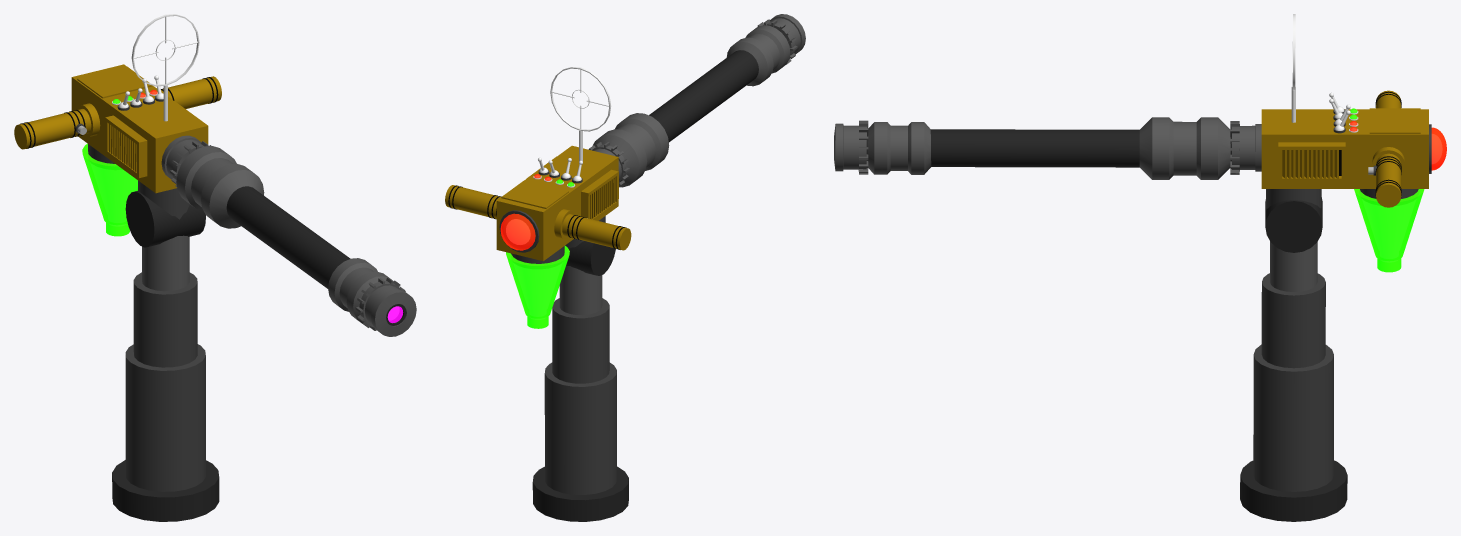
The model's file is turret.glb.
The picture shows the model from 3 angles, left to right: view 1: azimuth 30°, elevation 25°; view 2: azimuth 150°, elevation 25°; view 3: azimuth 270°, elevation 25°; orthographic projection. The views are drawn at different scales.
Visible parts, largest first — view 1: pPipe6, pCube1, pPipe5, pPipe1, pPipe20, pPipe7, pCylinder2, pCylinder4, pCylinder27, pPipe4, pPipe17, pPipe14 (+5 smaller); view 2: pPipe6, pCube1, pPipe5, pPipe1, pPipe7, pPipe20, pCylinder27, pCylinder2, pPipe14, pPipe4, polySurface54, pCylinder4 (+5 smaller); view 3: pPipe6, pPipe1, pCube1, pPipe20, pPipe5, pPipe7, pPipe14, pCylinder27, polySurface35, pCylinder4, pPipe4, pPipe17 (+4 smaller).
Boxes of the visible parts, left/top/right/bottom form: pPipe6: left=125, top=344, right=205, bottom=491; pCube1: left=71, top=64, right=207, bottom=193; pPipe5: left=133, top=272, right=197, bottom=367; pPipe1: left=226, top=186, right=406, bottom=325; pPipe20: left=176, top=146, right=264, bottom=228; pPipe7: left=112, top=460, right=219, bottom=521; pCylinder2: left=14, top=76, right=221, bottom=149; pCylinder4: left=125, top=191, right=205, bottom=247; pCylinder27: left=82, top=143, right=137, bottom=236; pPipe4: left=142, top=235, right=189, bottom=291; pPipe17: left=355, top=277, right=416, bottom=336; pPipe14: left=328, top=258, right=393, bottom=323; pPipe6: left=544, top=362, right=616, bottom=494; pCube1: left=496, top=145, right=618, bottom=261; pPipe5: left=552, top=298, right=609, bottom=383; pPipe1: left=649, top=50, right=758, bottom=142; pPipe7: left=532, top=466, right=628, bottom=521; pPipe20: left=592, top=113, right=669, bottom=187; pCylinder27: left=506, top=246, right=569, bottom=328; pCylinder2: left=445, top=185, right=631, bottom=250; pPipe14: left=726, top=25, right=790, bottom=86; pPipe4: left=559, top=266, right=602, bottom=315; polySurface54: left=581, top=169, right=618, bottom=220; pCylinder4: left=566, top=241, right=615, bottom=275; pPipe6: left=1253, top=344, right=1333, bottom=491; pPipe1: left=866, top=129, right=1231, bottom=167; pCube1: left=1261, top=109, right=1428, bottom=188; pPipe20: left=1139, top=117, right=1230, bottom=179; pPipe5: left=1261, top=273, right=1325, bottom=368; pPipe7: left=1240, top=460, right=1347, bottom=521; pPipe14: left=867, top=122, right=931, bottom=174; pCylinder27: left=1354, top=189, right=1424, bottom=272; polySurface35: left=1278, top=142, right=1345, bottom=182; pCylinder4: left=1265, top=197, right=1322, bottom=252; pPipe4: left=1270, top=241, right=1317, bottom=291; pPipe17: left=834, top=120, right=868, bottom=174.
Bounding box in the file's own units: 25.42 × 60.25 × 69.43.
